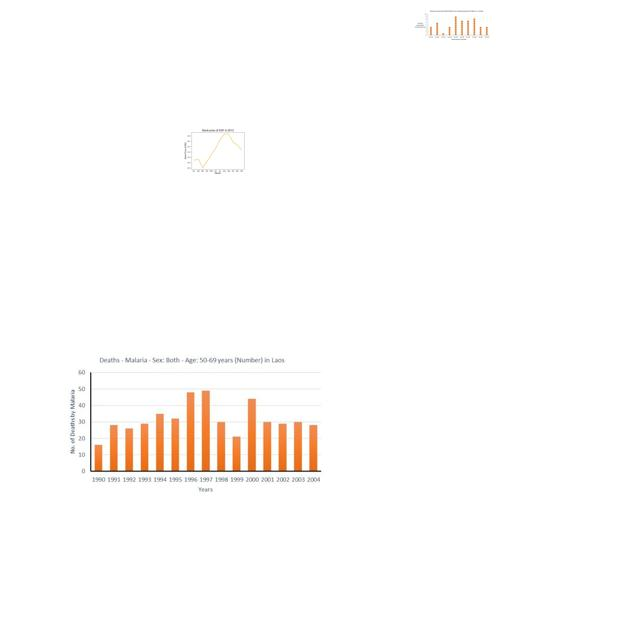Graph: (64, 351, 326, 496), (183, 125, 251, 176), (412, 9, 491, 42)
